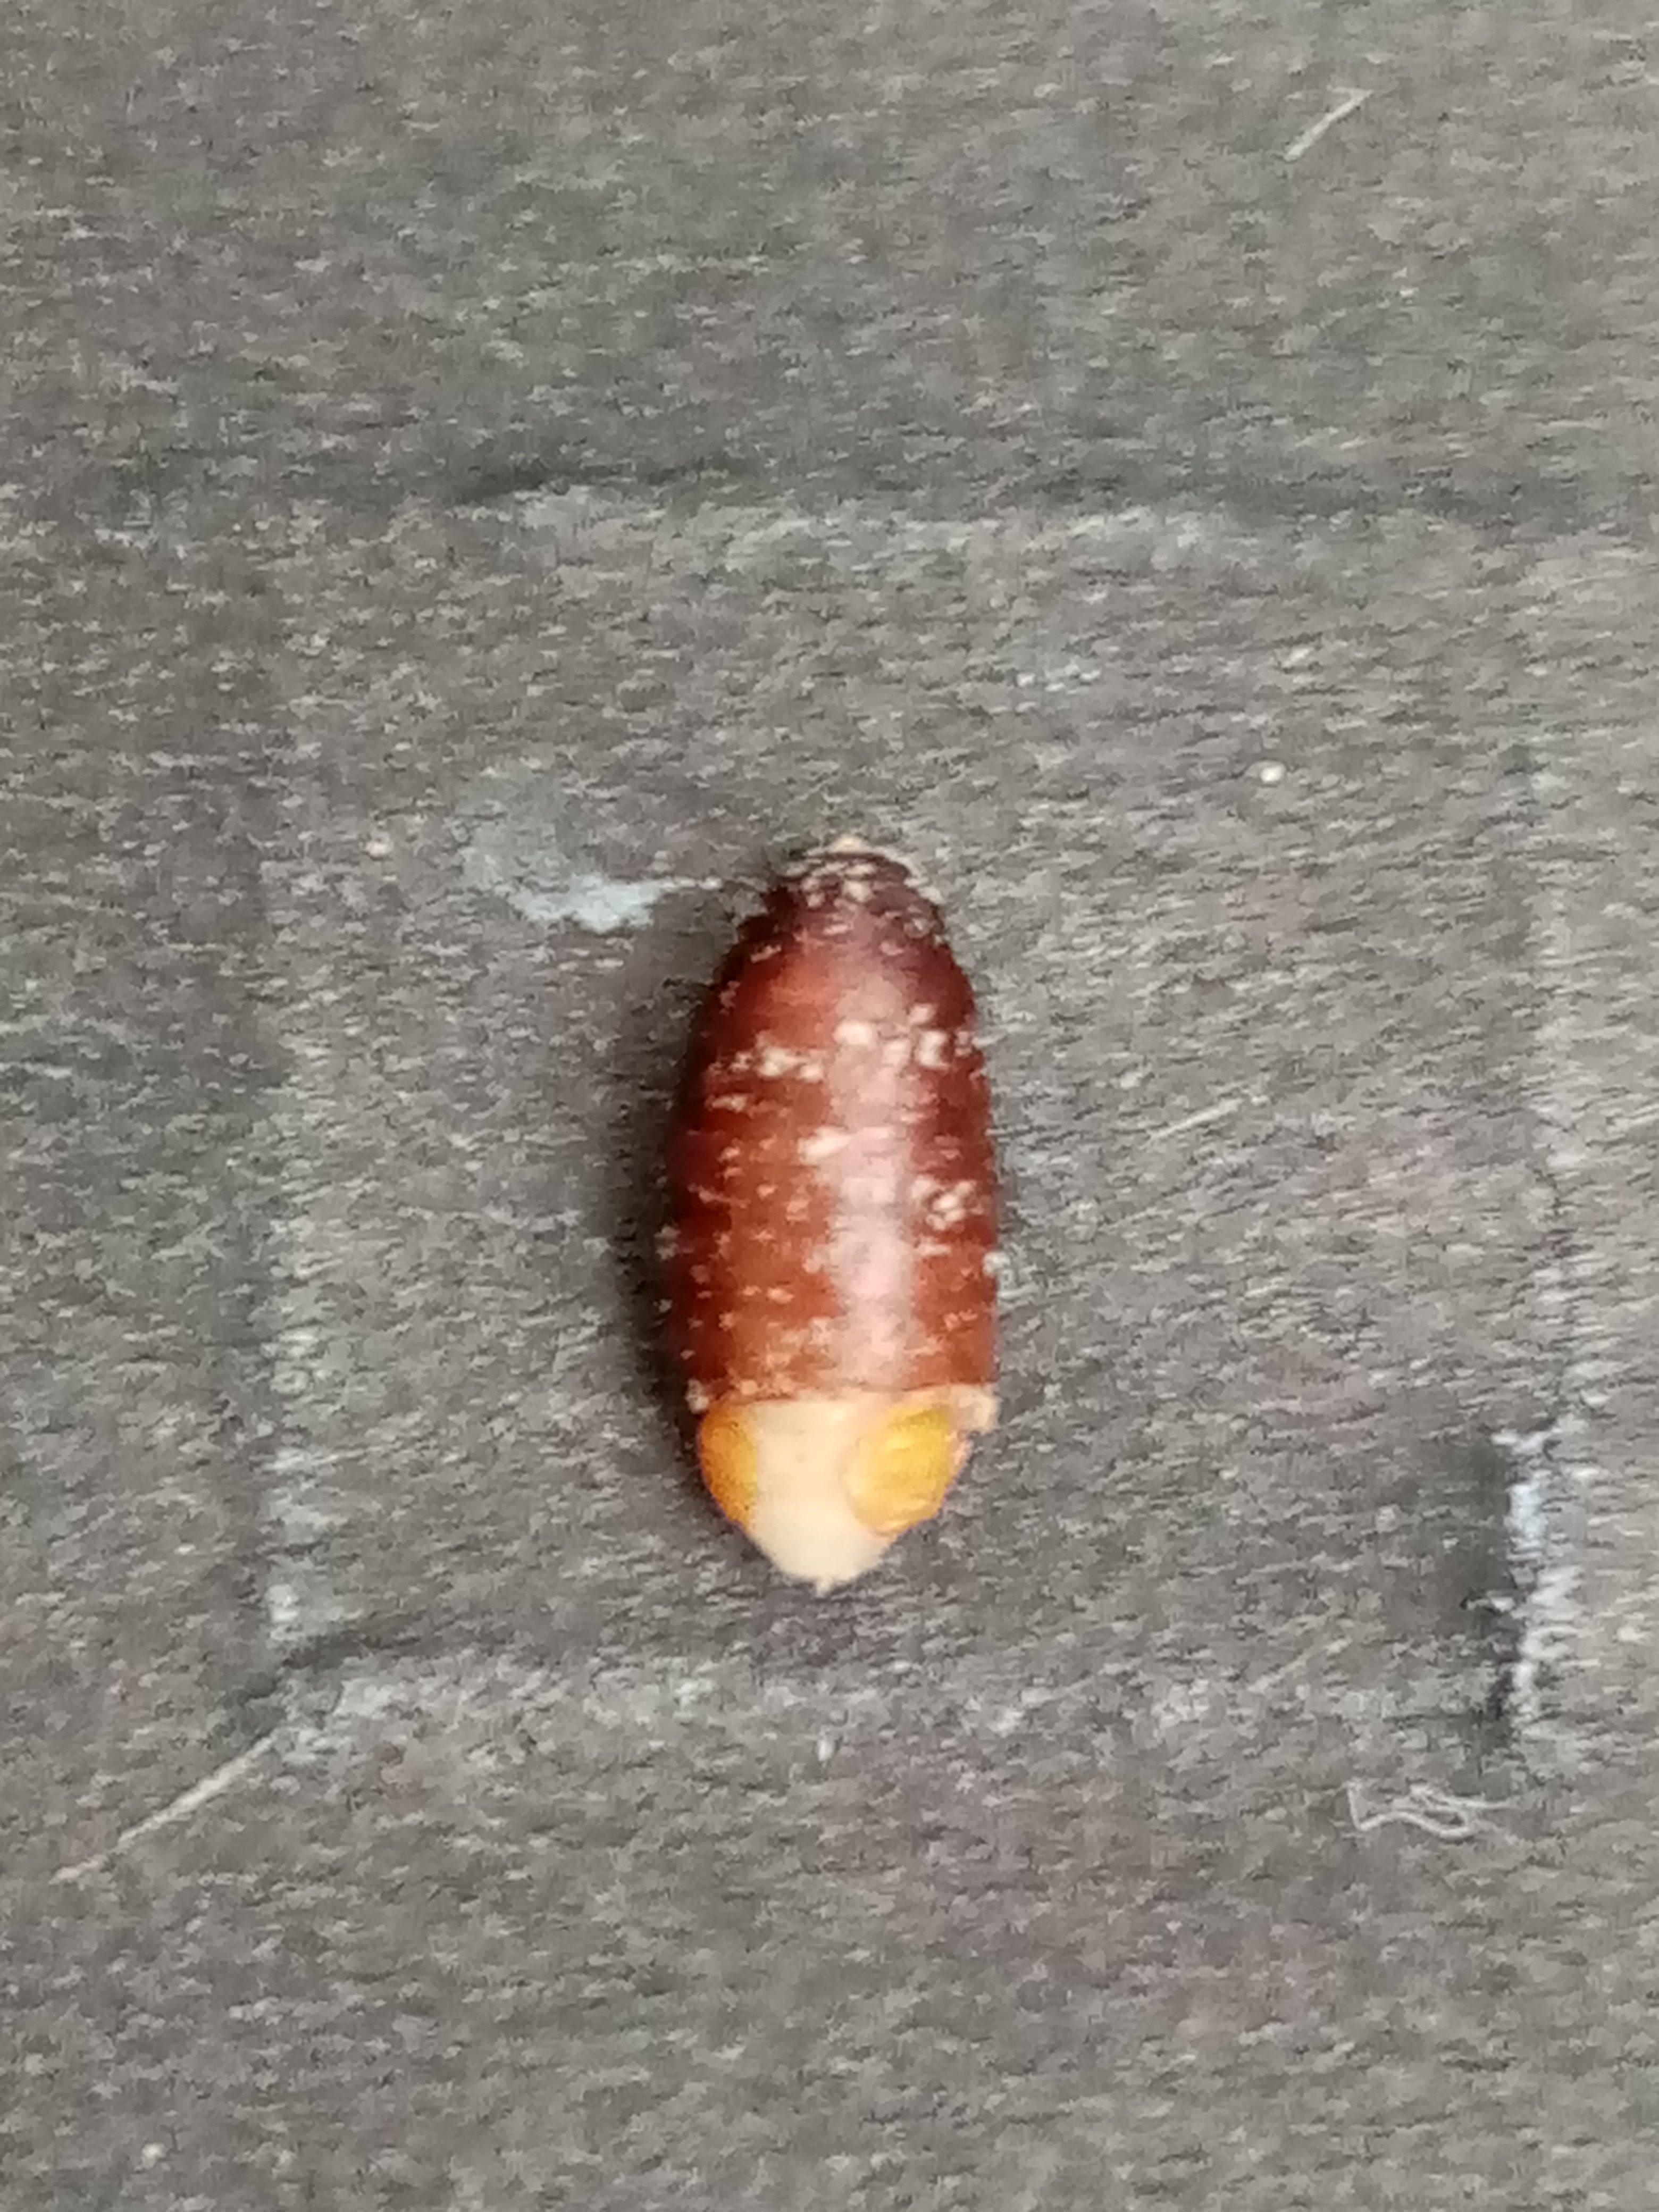pupa: (687, 1411, 1002, 1595)
